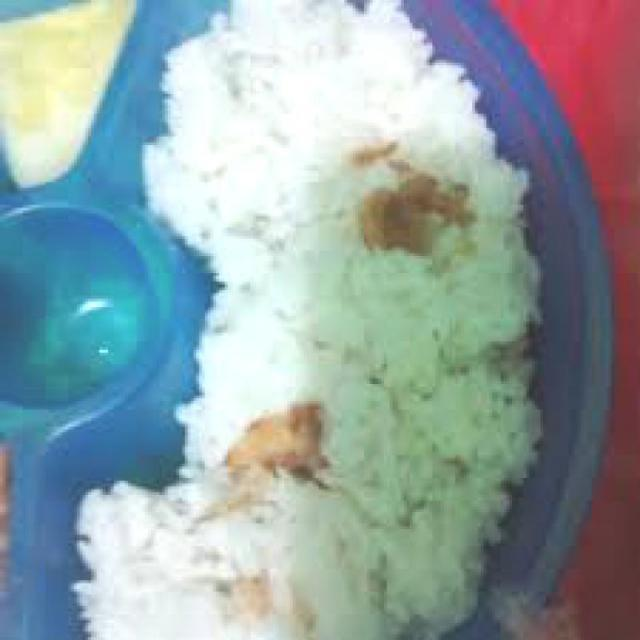rice: (76, 0, 542, 639)
